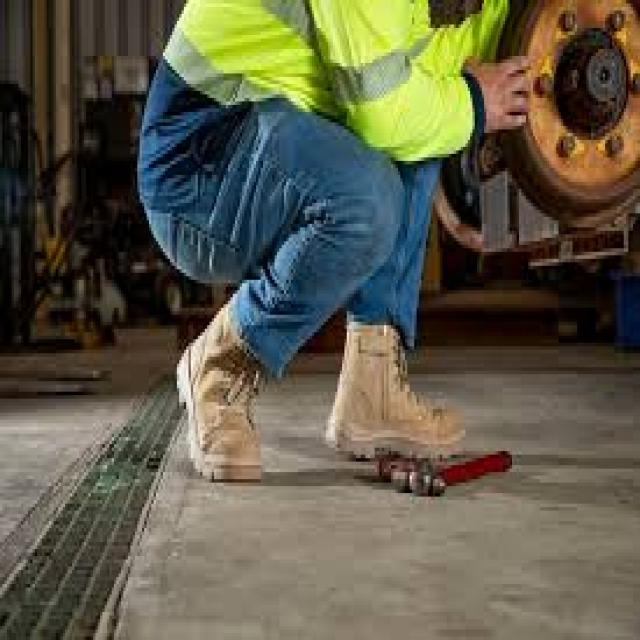shoes: (322, 319, 468, 459), (176, 305, 267, 485)
